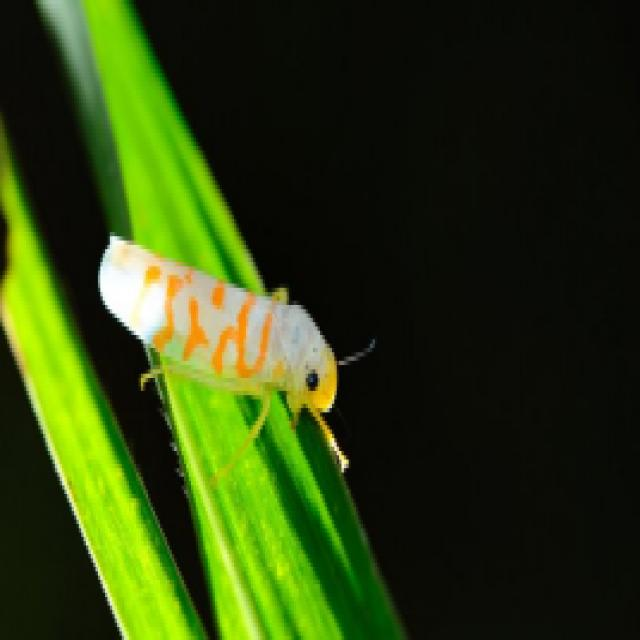Yechan: (92, 223, 354, 457)
